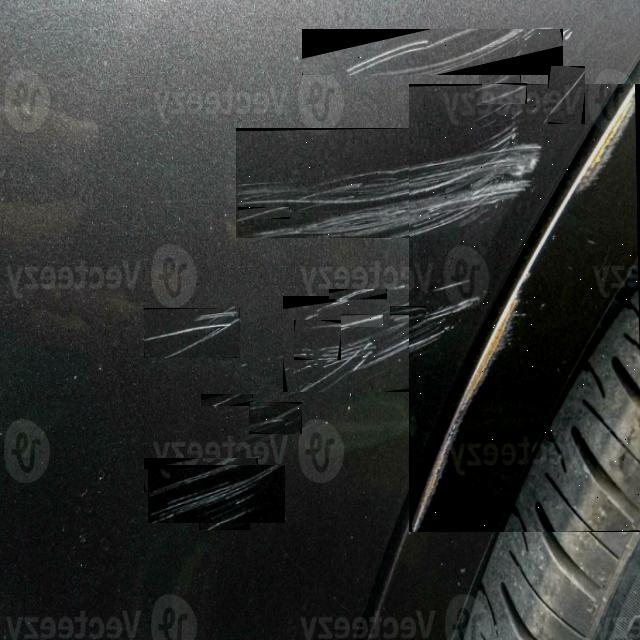Scratch: (412, 84, 634, 531), (236, 128, 540, 237), (297, 296, 458, 391), (341, 29, 536, 74), (150, 465, 282, 522), (144, 308, 238, 357), (587, 101, 635, 190), (163, 458, 238, 491), (548, 70, 584, 117), (249, 405, 301, 431), (144, 324, 227, 339), (205, 506, 245, 529), (479, 69, 519, 90), (482, 85, 525, 103), (240, 207, 288, 218), (341, 315, 382, 326), (435, 278, 468, 289), (209, 394, 241, 405), (338, 289, 375, 298), (394, 312, 421, 321), (390, 307, 424, 314), (310, 323, 340, 330)
